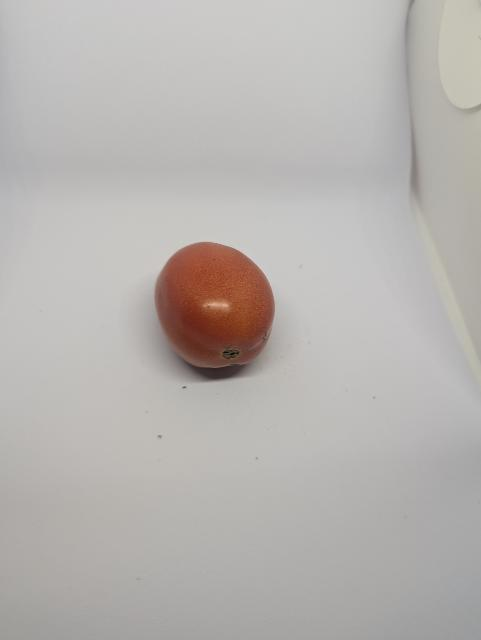red: (152, 240, 280, 377)
